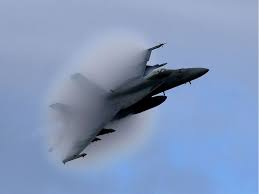fighter: (44, 39, 214, 167)
